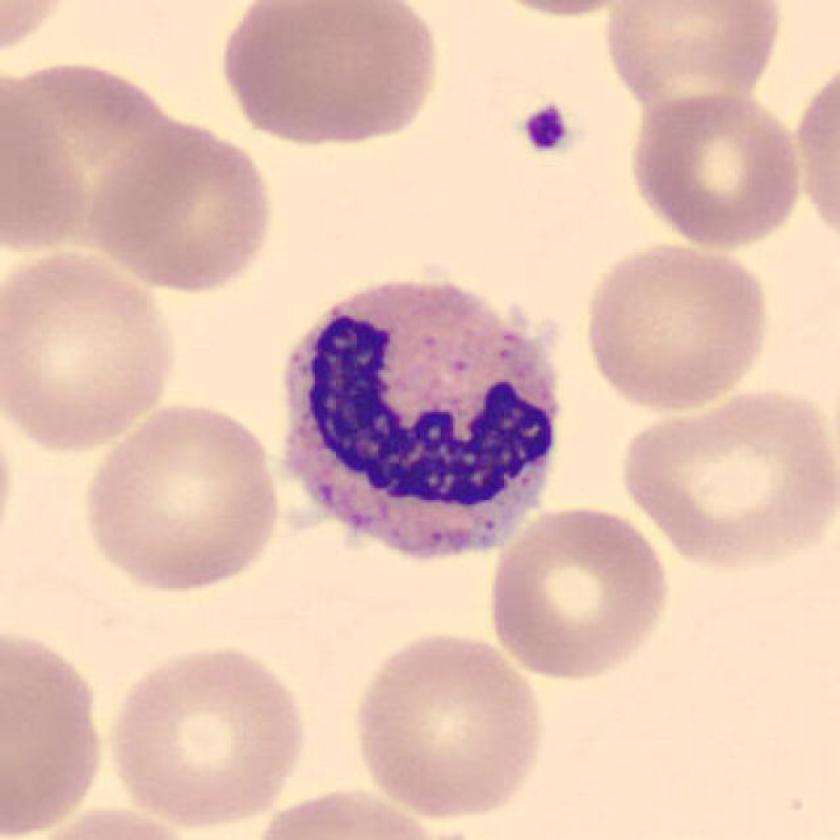neutrophil: (283, 281, 556, 556)
